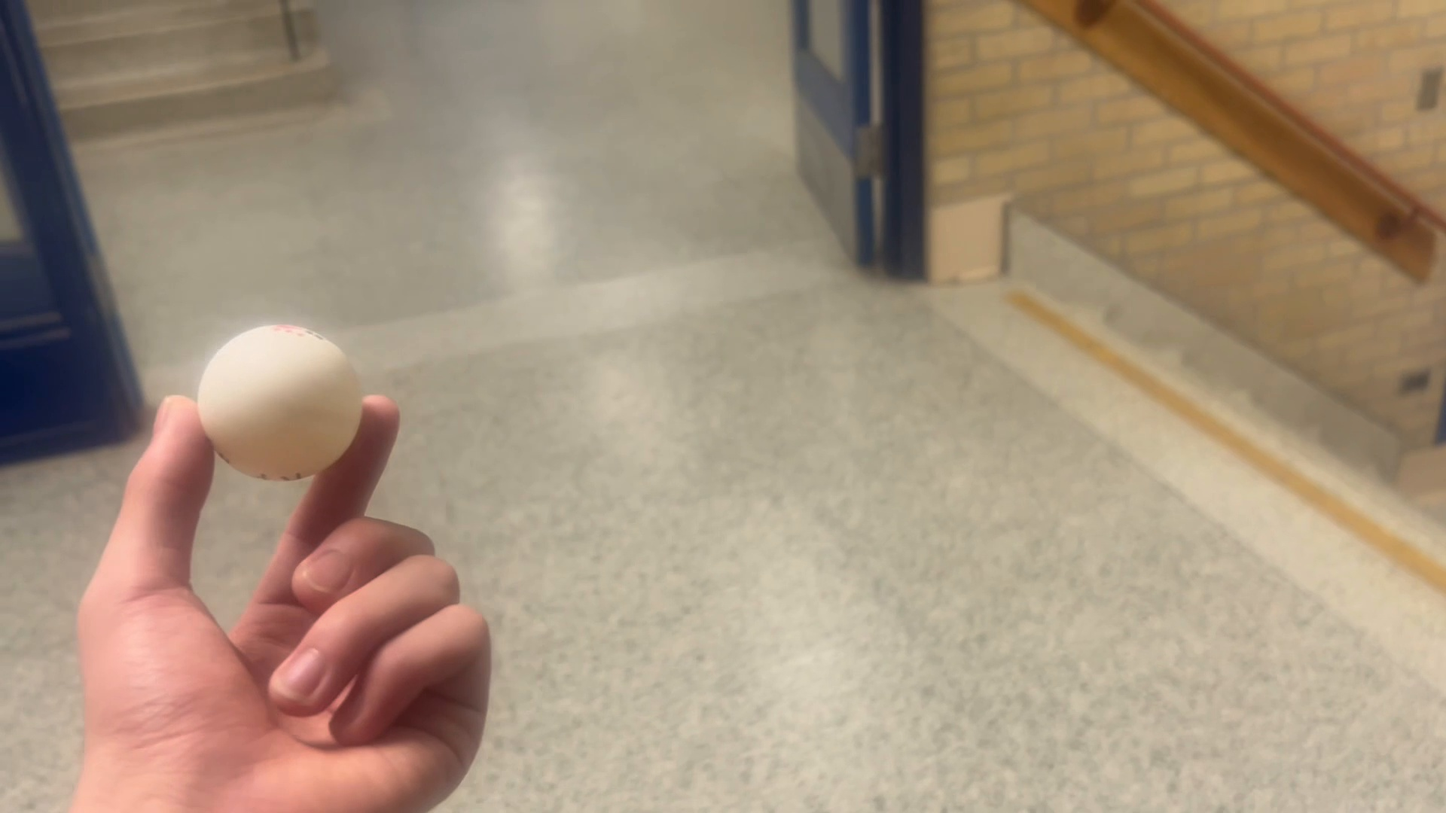Ball: (187, 311, 370, 503)
